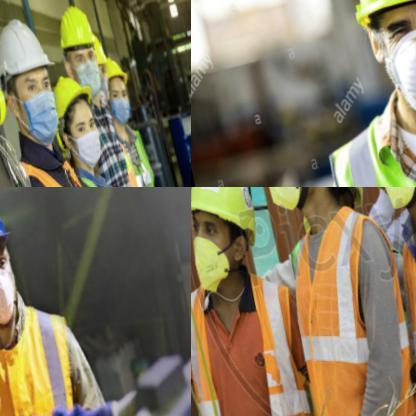vest: (273, 197, 415, 415), (191, 267, 320, 415), (0, 295, 122, 415), (314, 70, 415, 186), (12, 136, 105, 186), (112, 126, 178, 186), (76, 160, 158, 186)
